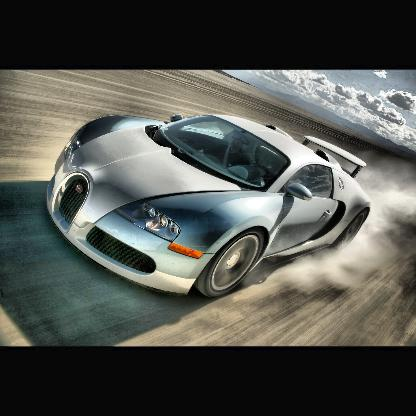Bugatti Veyron 16-4 Coupe 2009: (46, 114, 374, 301)
